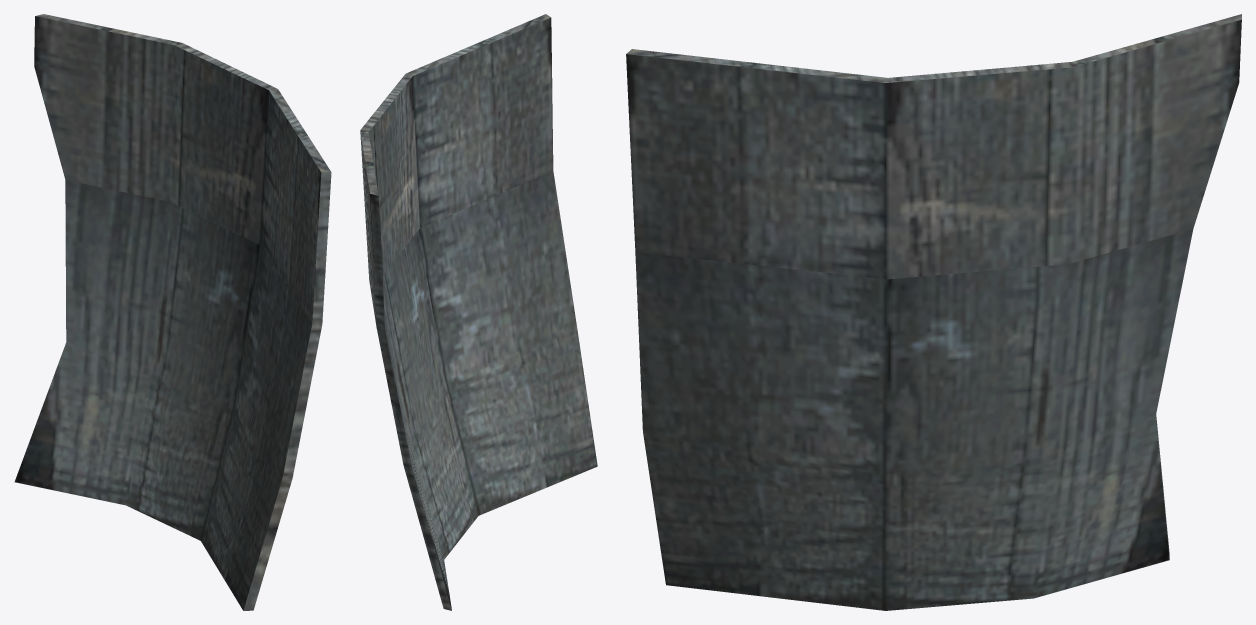
File: flower_barrel_dead_p8.glb
3 renders of one model, left to right at view 1: azimuth 30°, elevation 25°; view 2: azimuth 150°, elevation 25°; view 3: azimuth 270°, elevation 25°, orthographic. The views are drawn at different scales.
Parts seen in each view (by area): view 1: flower_barrel_dead_p8; view 2: flower_barrel_dead_p8; view 3: flower_barrel_dead_p8.
Boxes of the visible parts, bbox=[...] form: flower_barrel_dead_p8: bbox=[14, 14, 331, 610]; flower_barrel_dead_p8: bbox=[360, 14, 597, 610]; flower_barrel_dead_p8: bbox=[626, 14, 1241, 610].
Bounding box in the file's own units: 0.1646 × 0.439 × 0.4289.
Materials: 1 (1 with a texture image).
